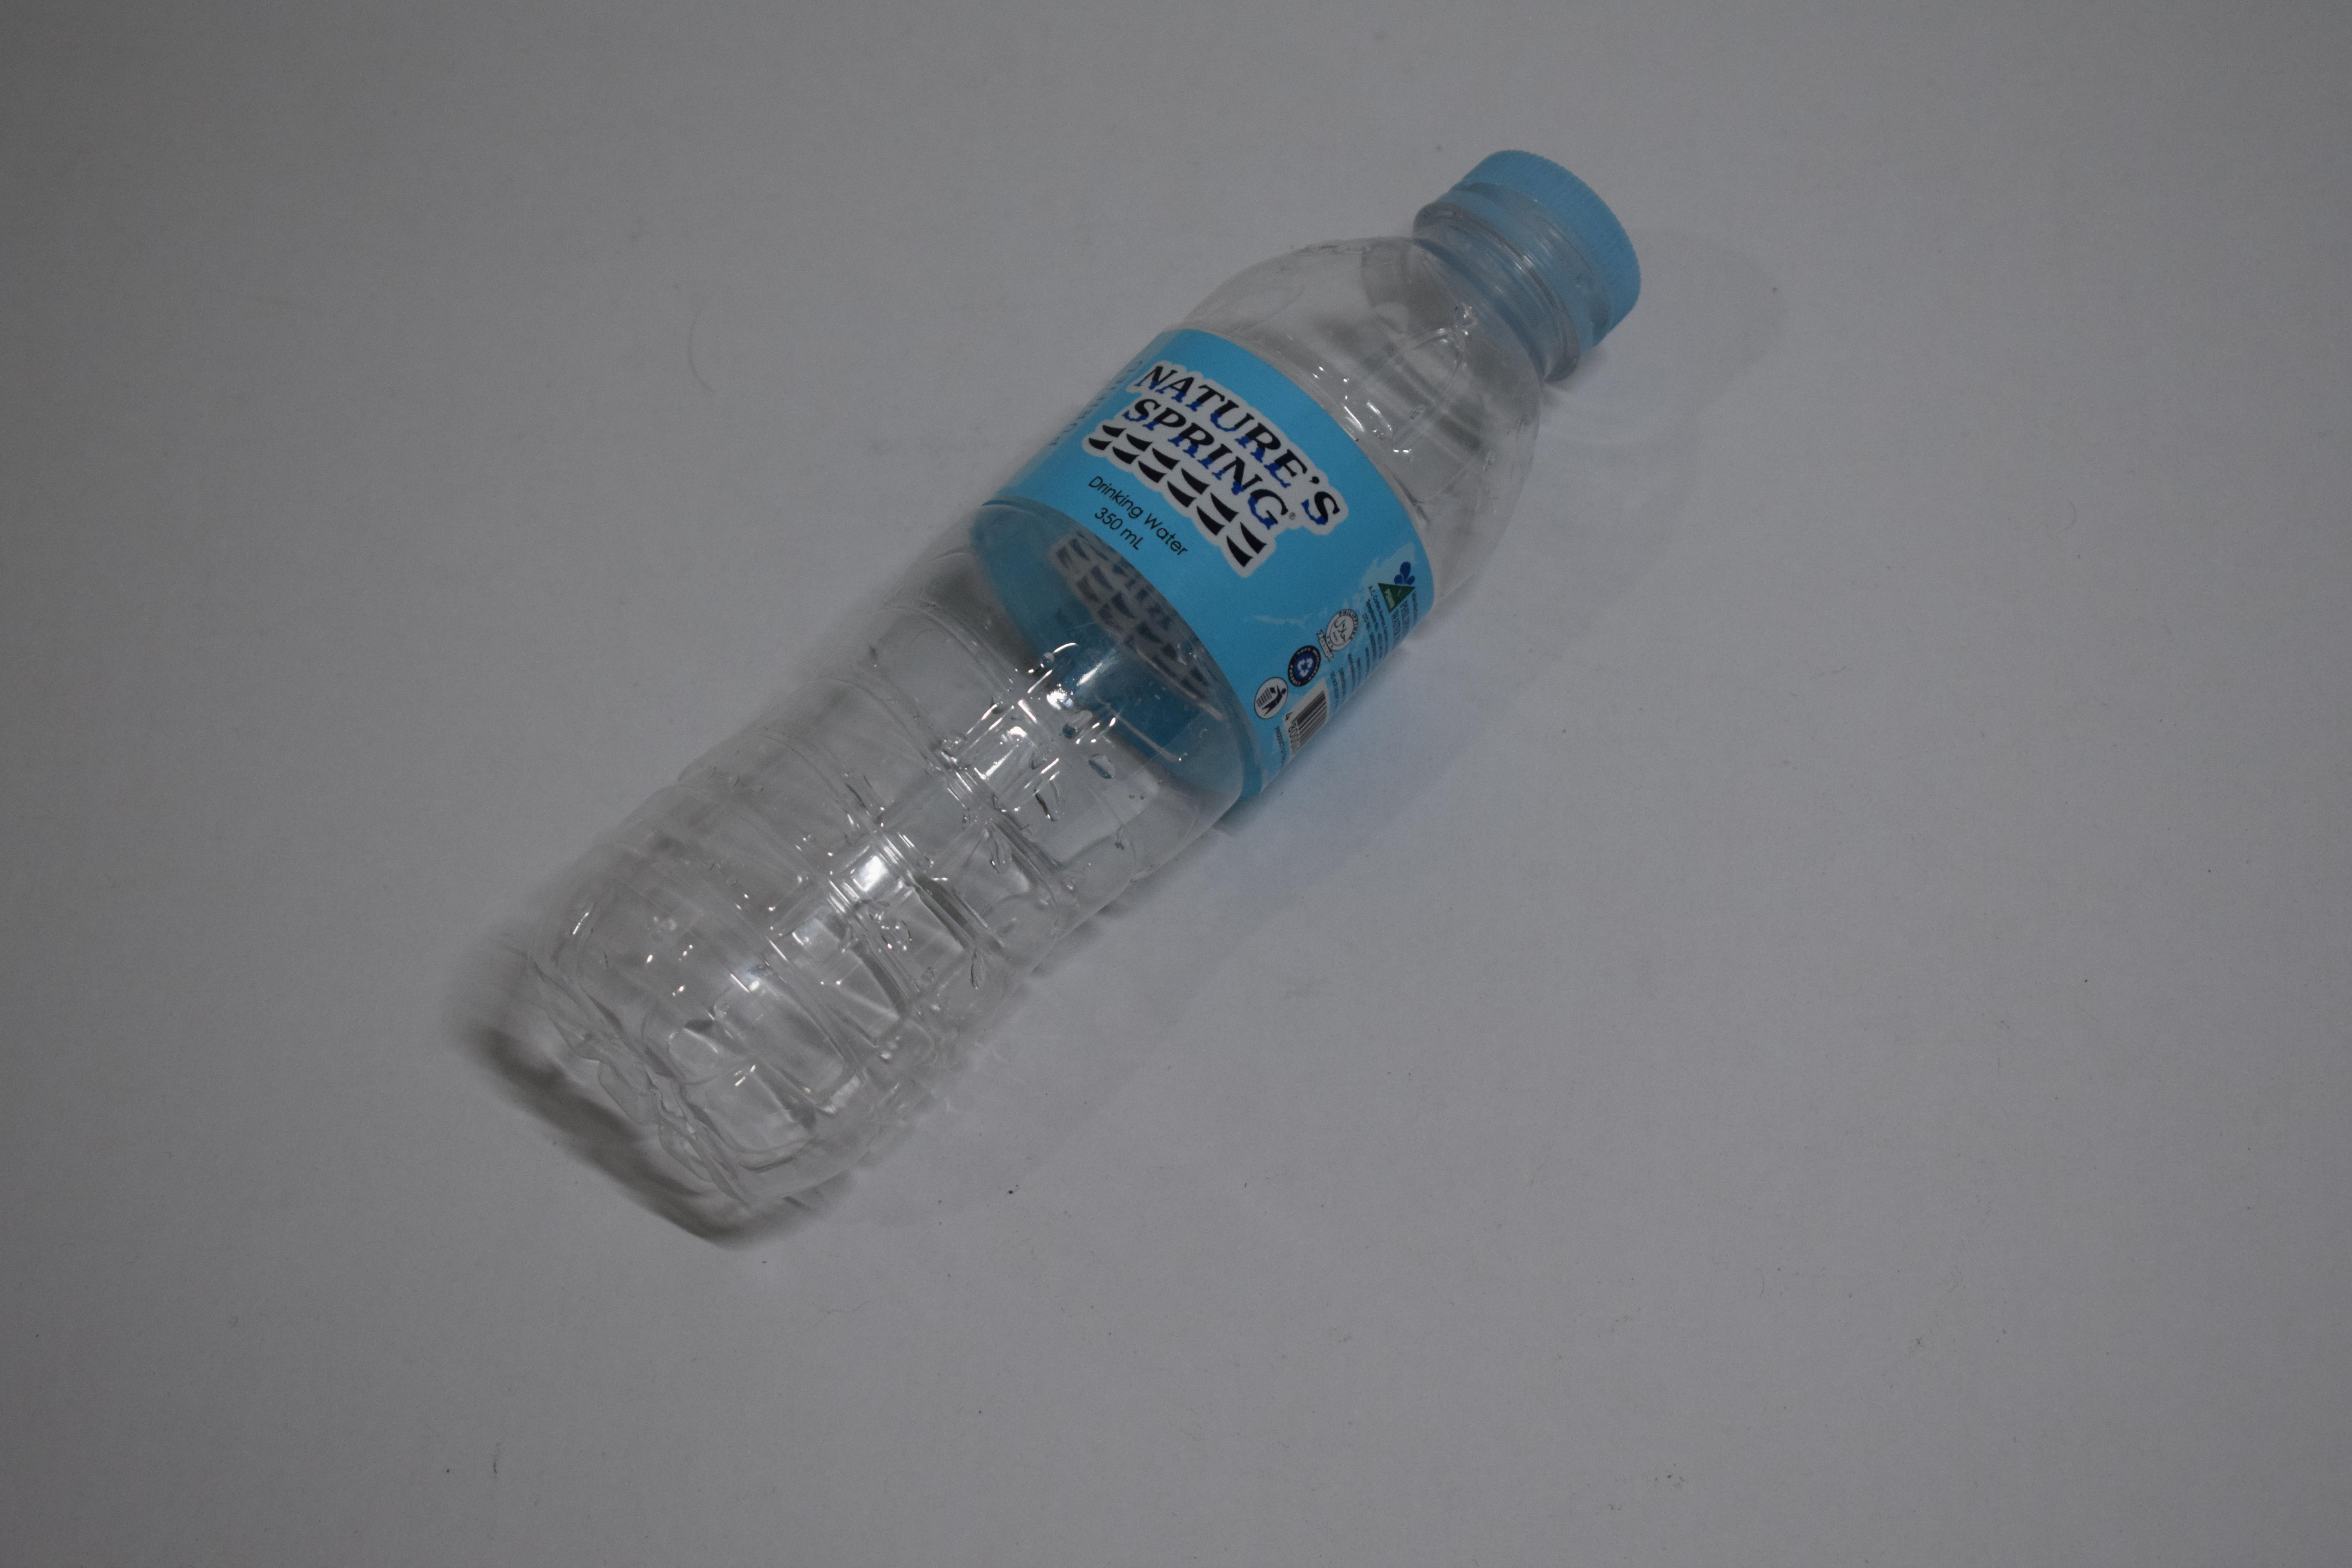bottle: (534, 136, 1640, 1202)
